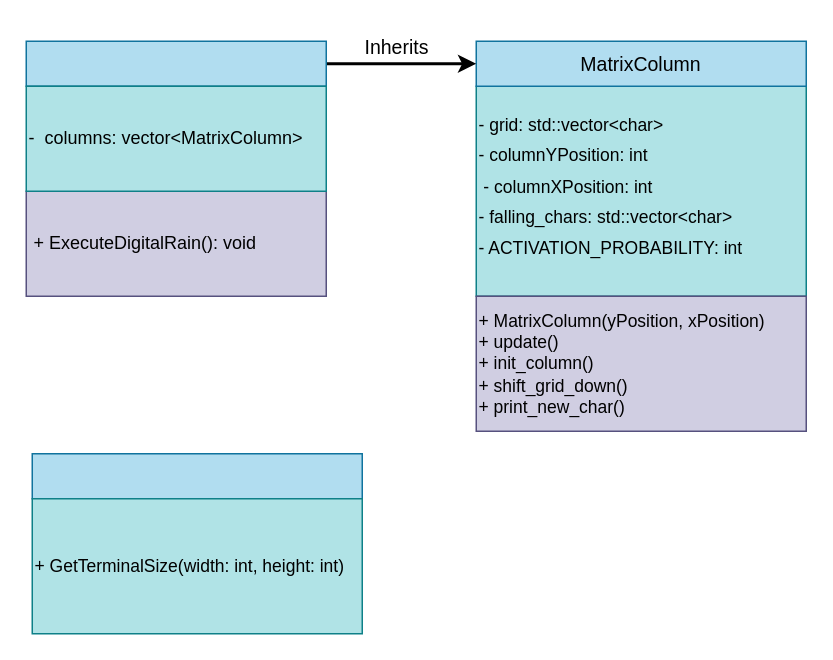
Some shapes in this 833 by 660 pixel diagram are drawn without their labels. The centre of each missing label's shape, as x and y in pixels:
"DigitalRain" belongs at point 175,63.
"helperFunctions" belongs at point 196,475.
